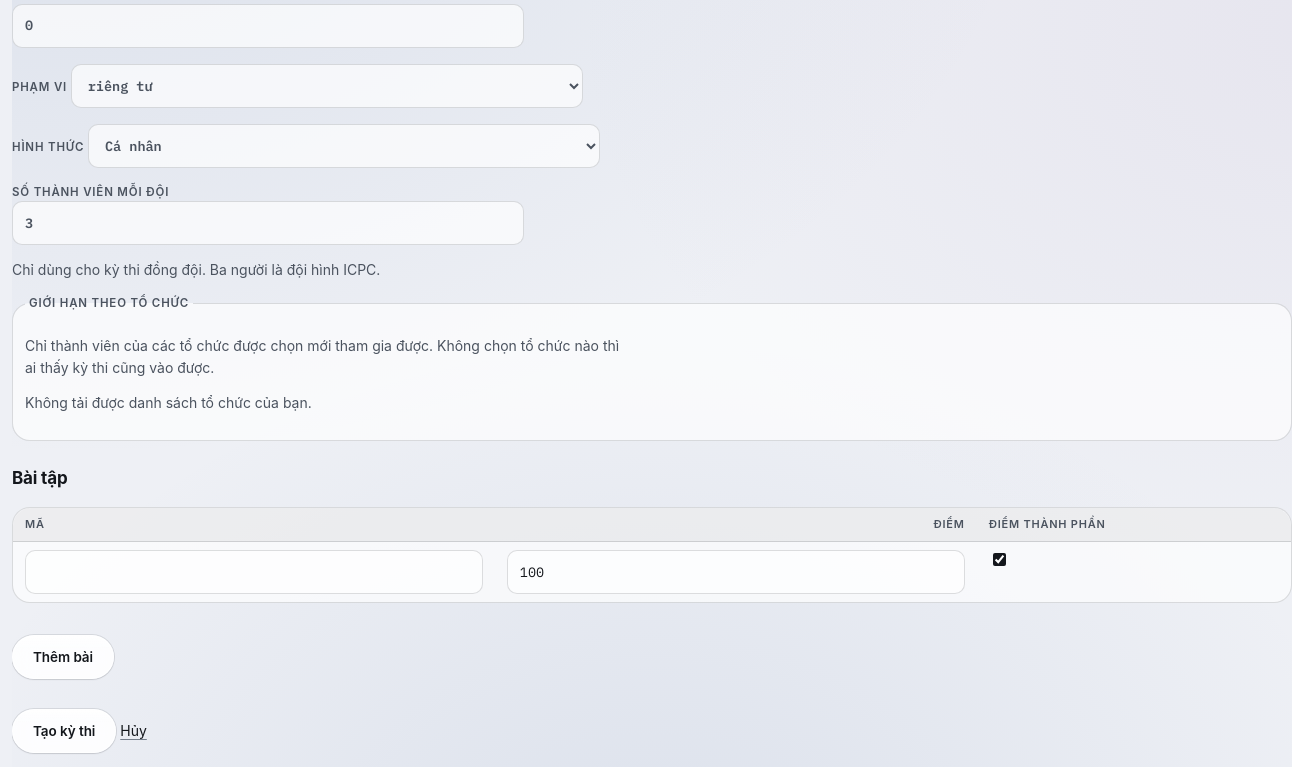
Test: ContestNewPage — the form teaches, and keeps what was typed › names the empty field and moves focus there instead of a dead button
(page scrolled)
Click the button "Tạo kỳ thi" at (64, 731), box x1=12 y1=709 x2=116 y2=753
(page scrolled)
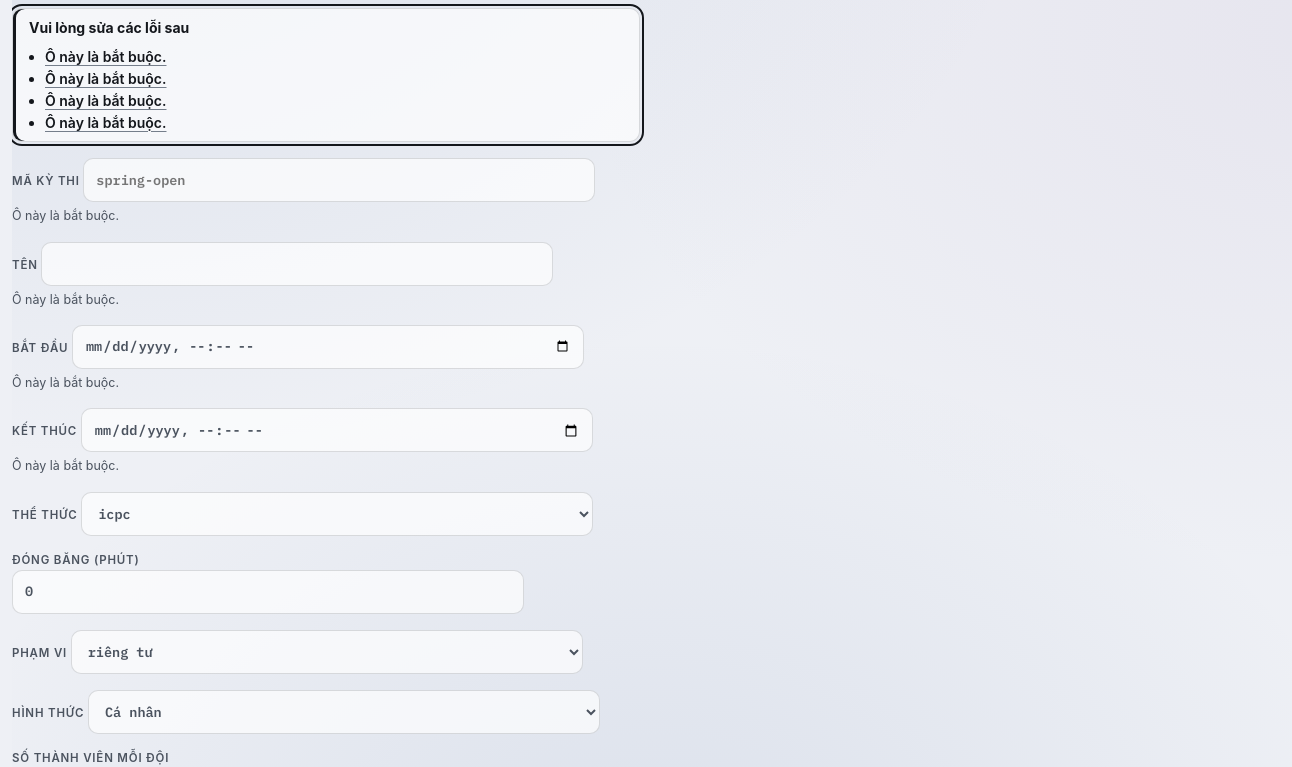
Expected: the message shows "Vui lòng sửa các lỗi sau", x1=29 y1=19 x2=189 y2=36
